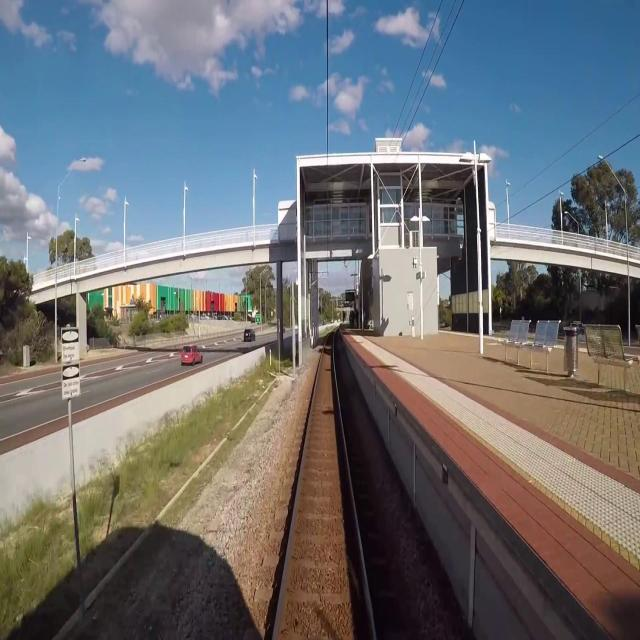rail-track: (276, 333, 372, 639)
